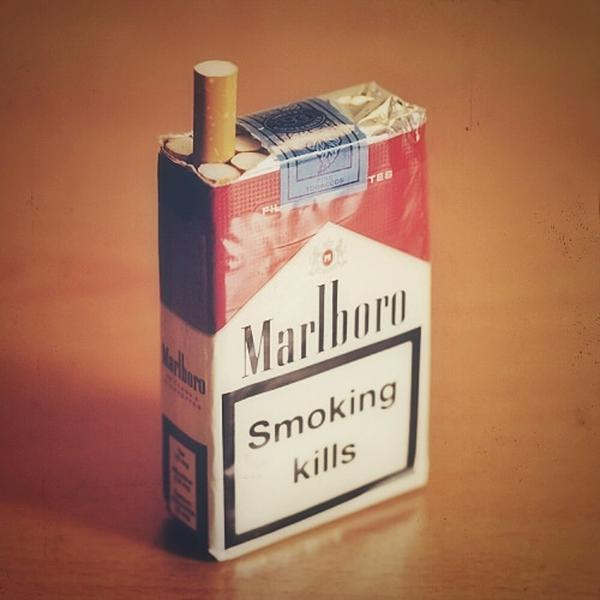marlboro_red: (213, 149, 427, 487)
